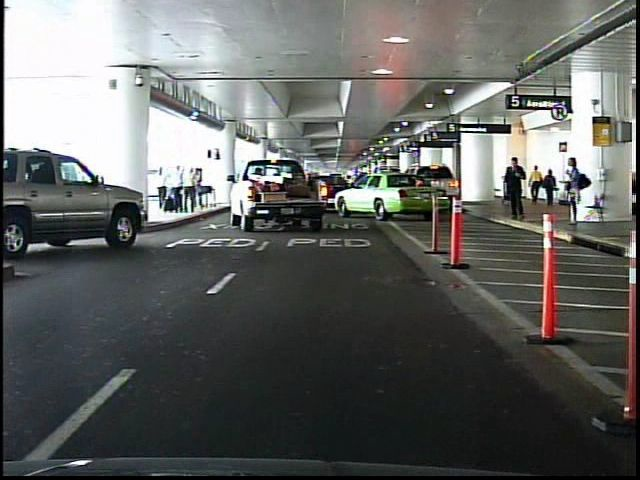person: (561, 155, 587, 229), (501, 154, 526, 222), (543, 169, 559, 209), (531, 166, 542, 205)
